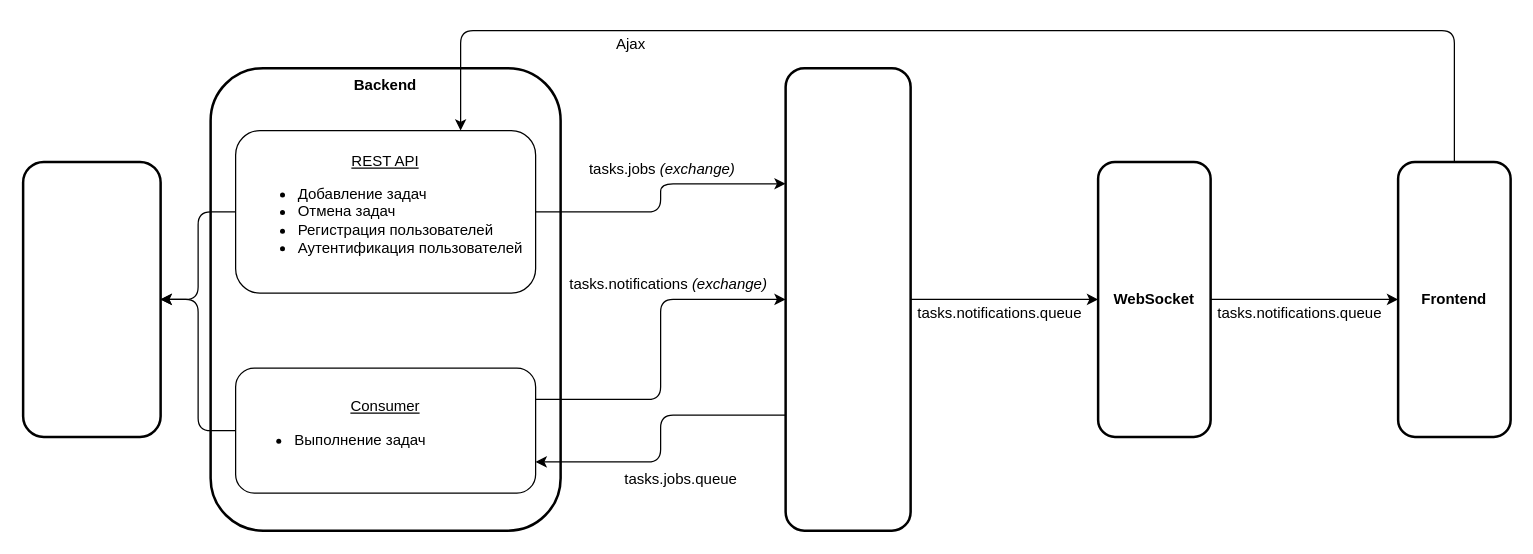
Image size: 1533x554. Some labels were removed from this diagram. Each missing label, with the centre of its shape:
"PostgreSQL" goes at point 91,299.
"RabbitMQ" goes at point 847,298.
